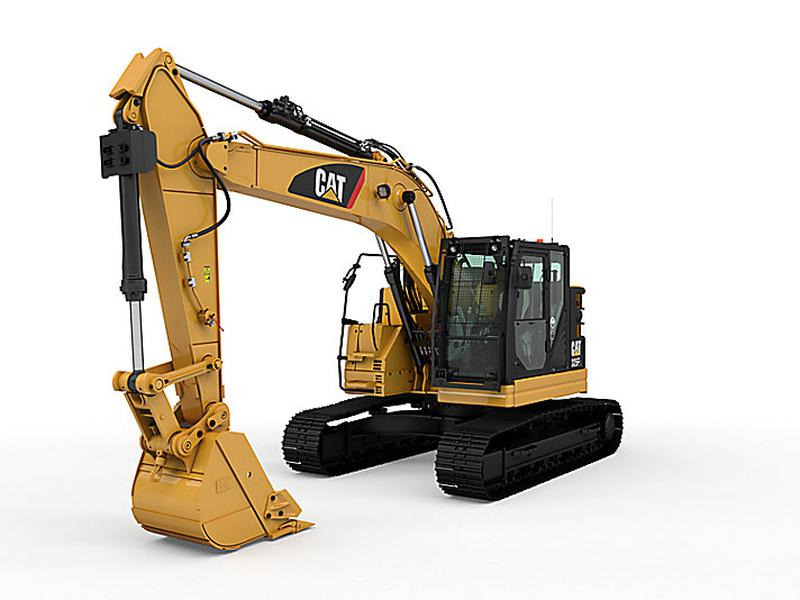shovel: (91, 39, 628, 563)
